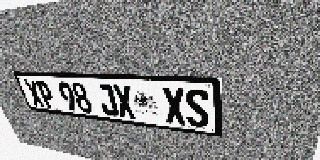8: (70, 82, 94, 114)
9: (56, 81, 80, 112)
J: (95, 83, 119, 117)
P: (34, 80, 58, 109)
S: (184, 88, 210, 128)
X: (162, 87, 187, 125), (112, 84, 137, 119), (23, 80, 46, 107)
